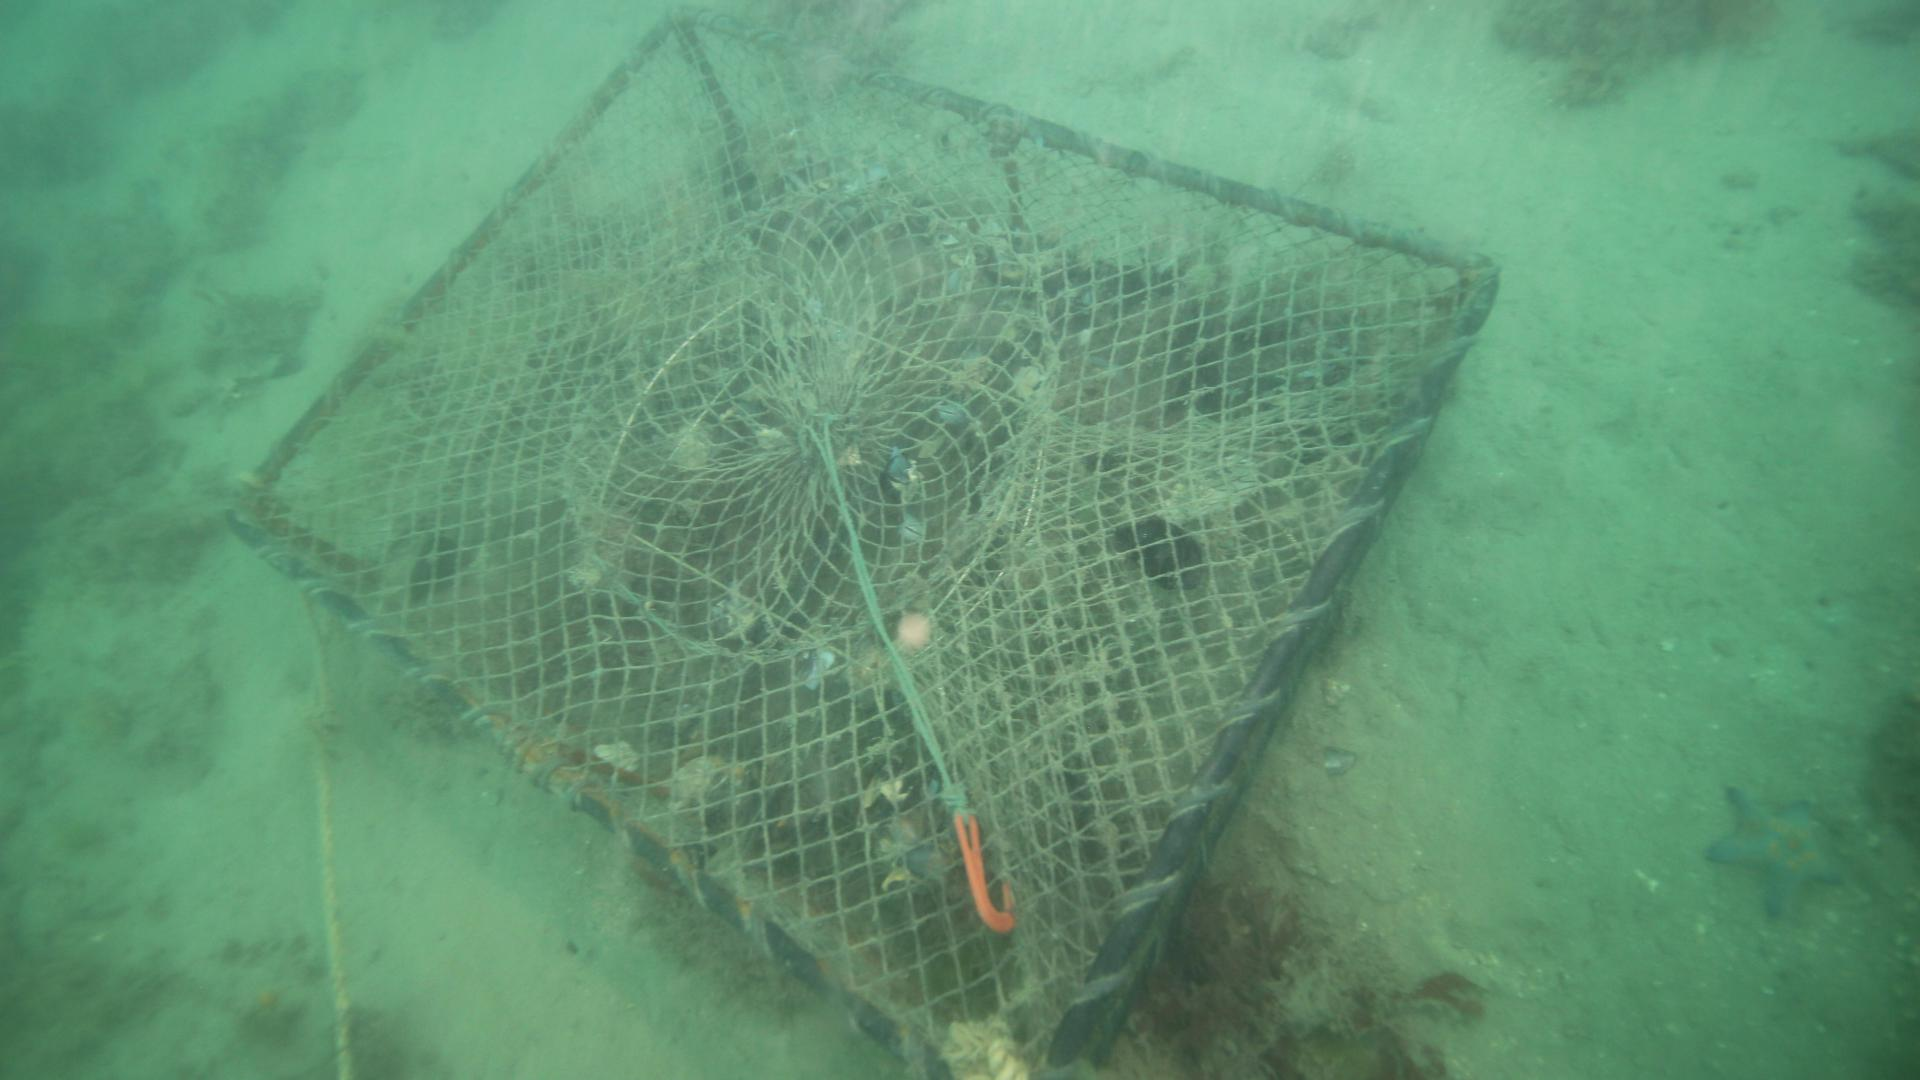rectangular fish trap: (227, 0, 1505, 1077)
